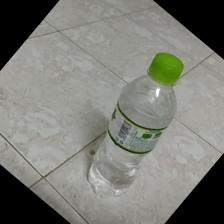Dasani: (85, 51, 185, 199)
